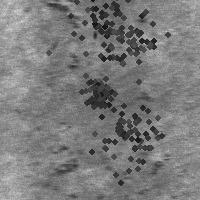rolled-in_scale: (49, 0, 169, 89), (78, 83, 174, 179), (89, 4, 163, 78), (100, 149, 200, 200), (43, 1, 83, 73), (39, 138, 84, 200), (75, 70, 117, 112)
